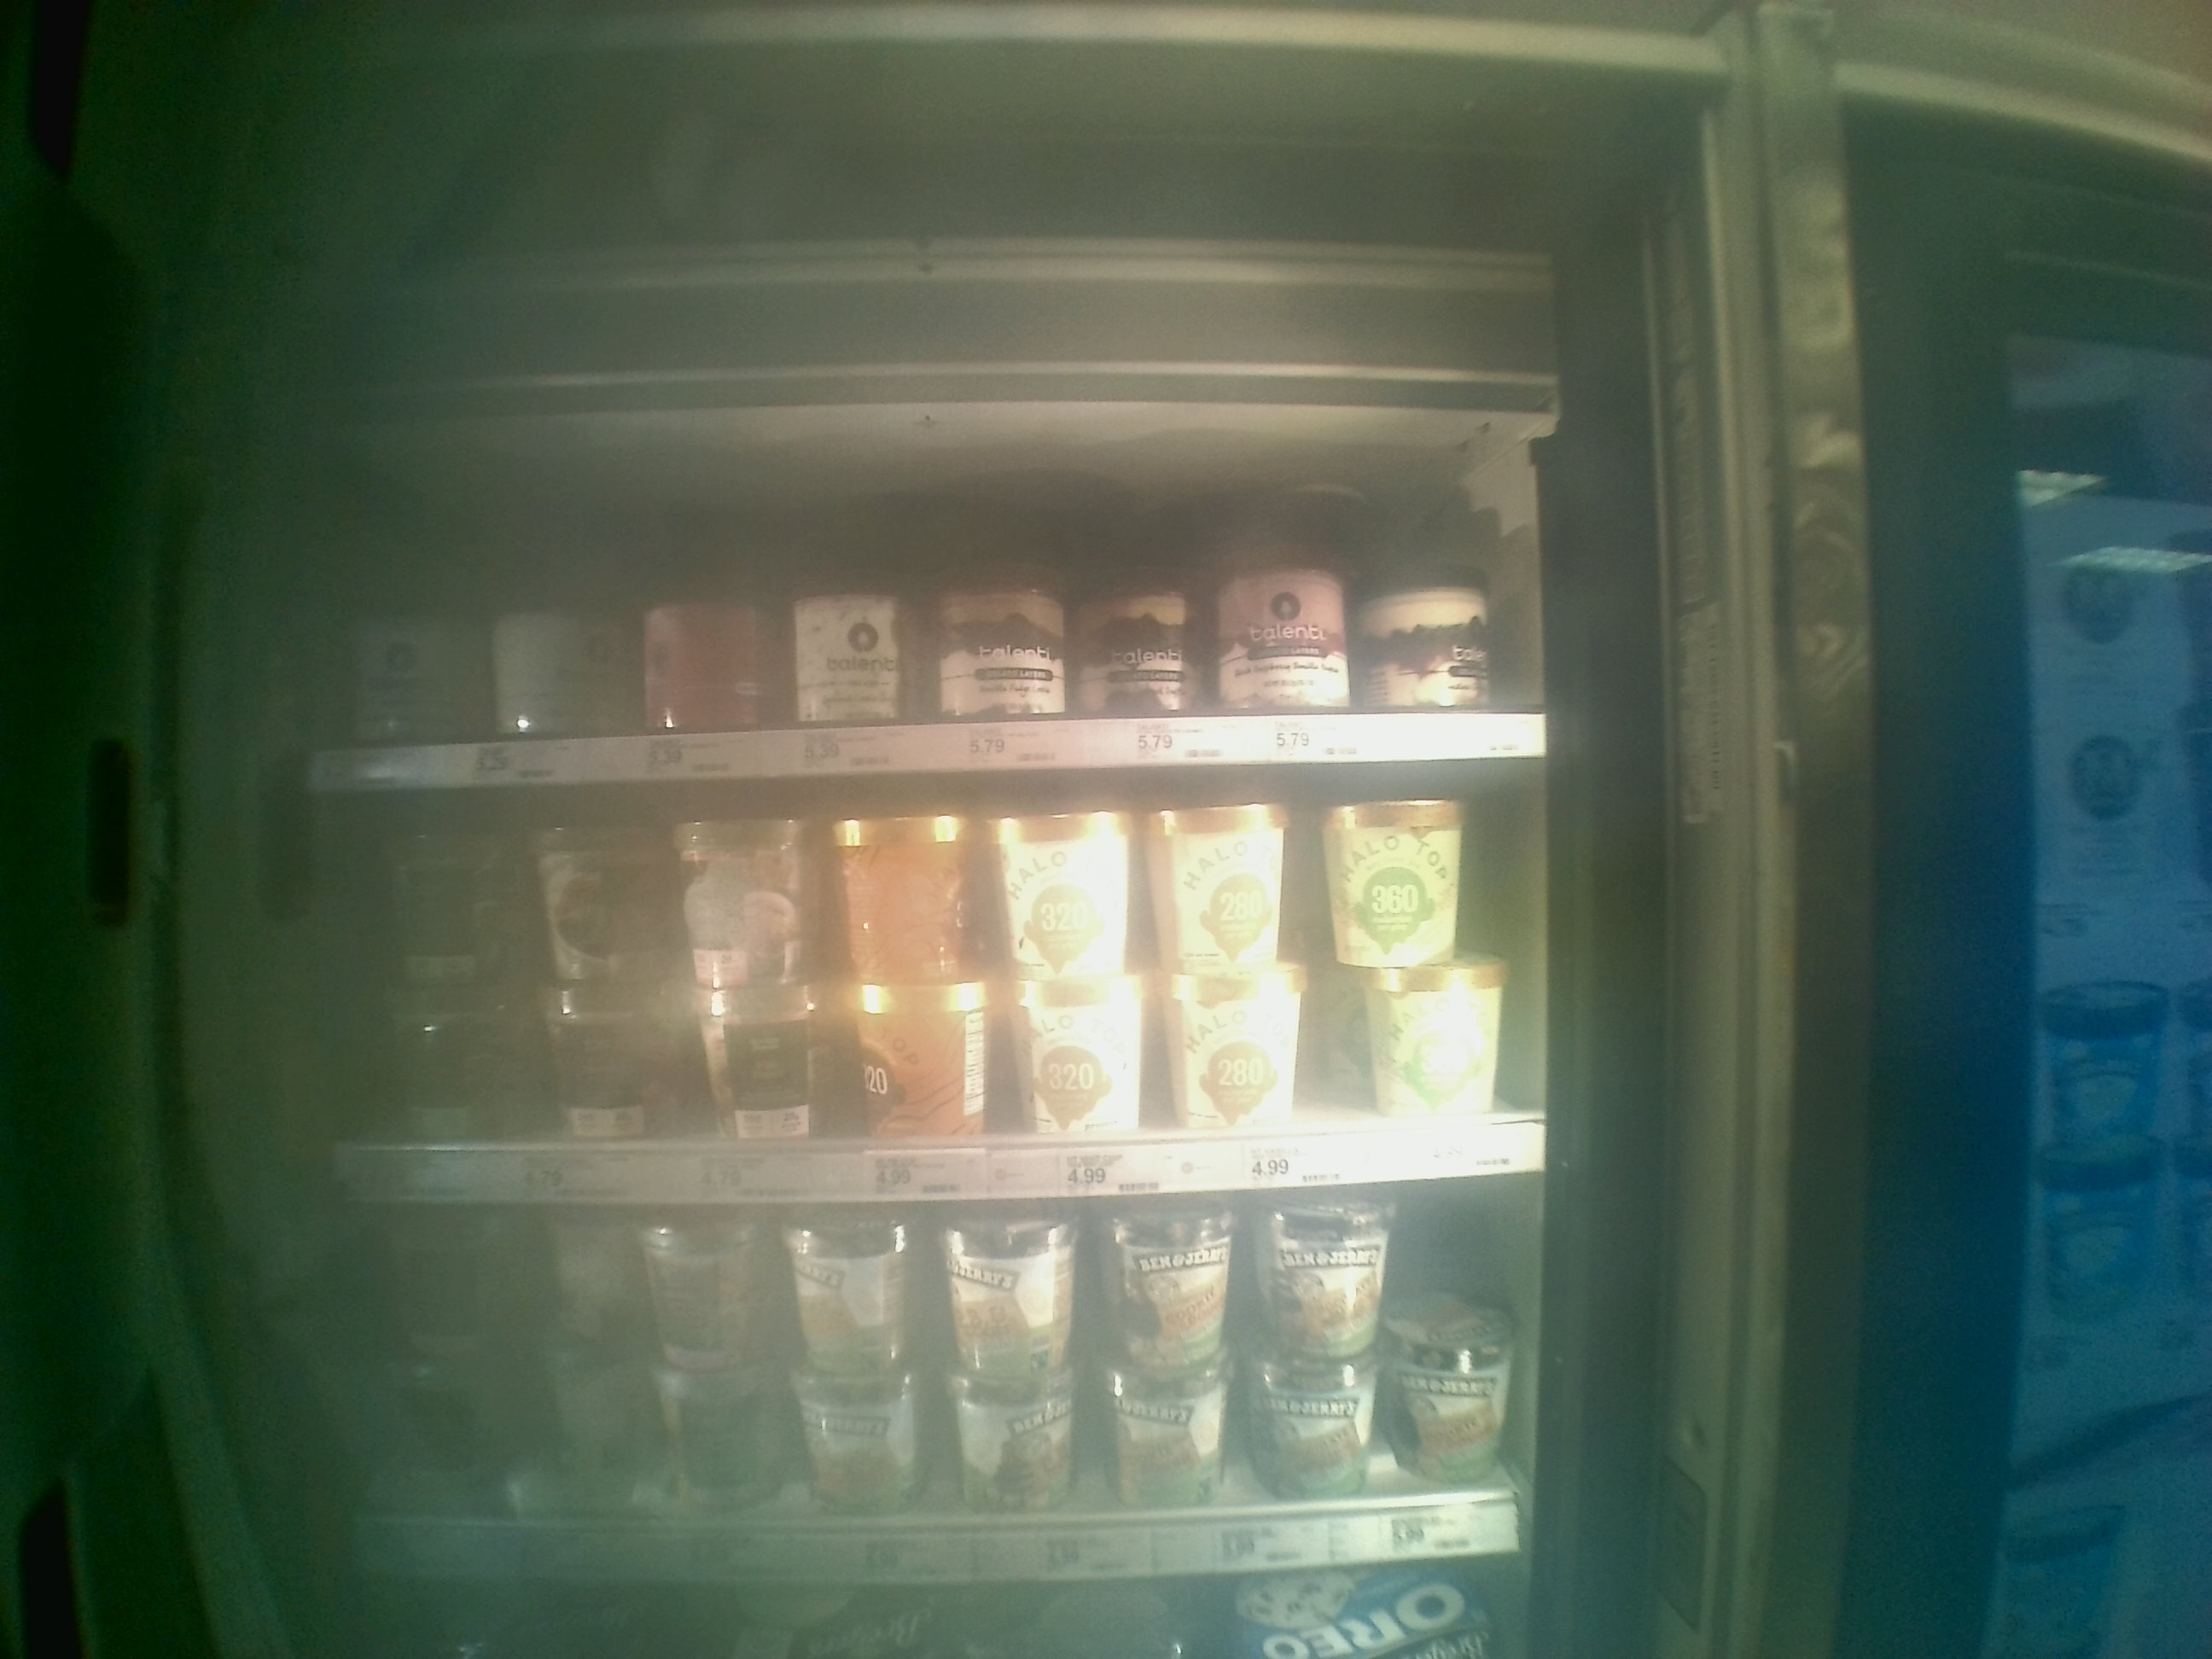ice-cream-shelf: (322, 798, 1524, 1190), (331, 1199, 1496, 1575), (310, 436, 1541, 786)
